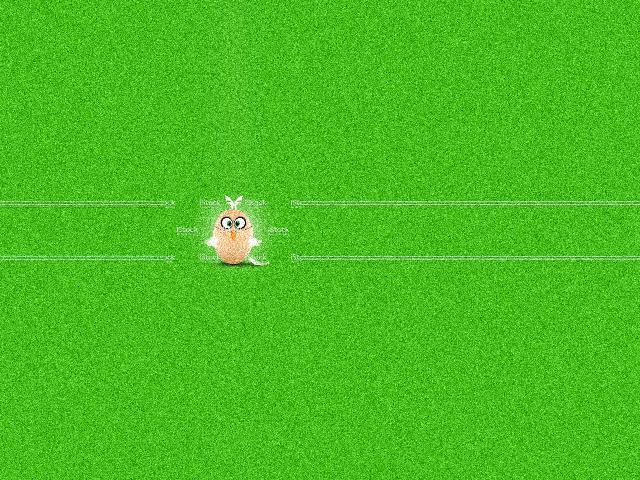egg: (214, 209, 253, 265)
